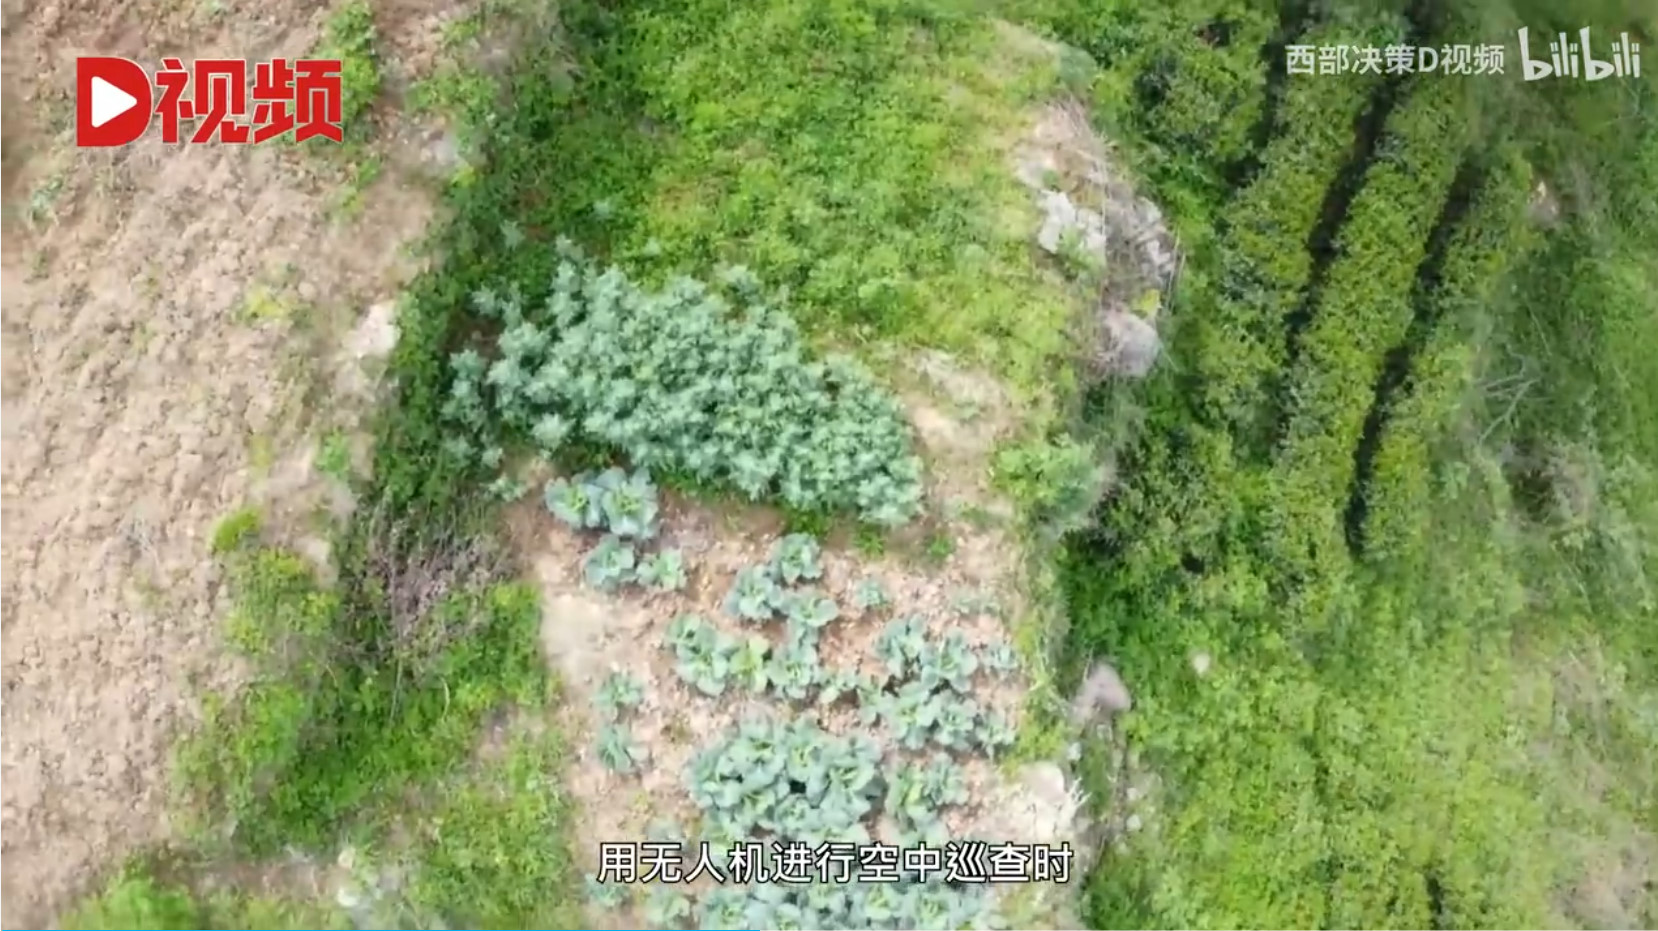Poppy: (581, 529, 1045, 931), (450, 226, 939, 539)
